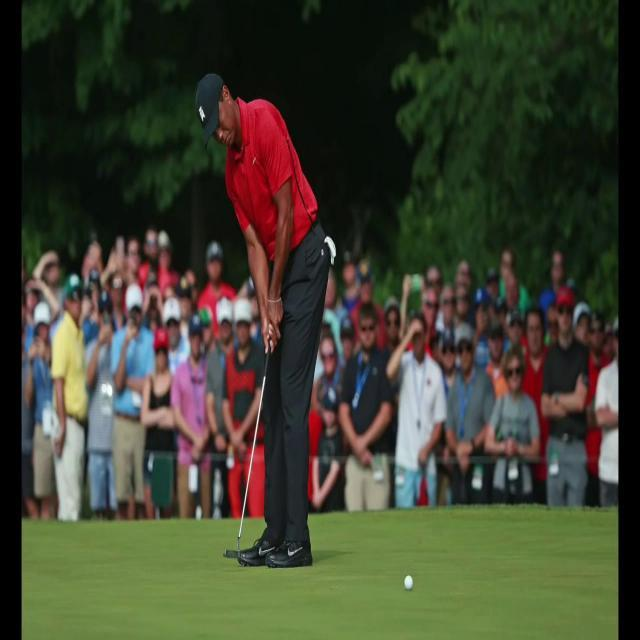ClubHead: (215, 516, 248, 566)
GolfBall: (400, 568, 416, 598)
